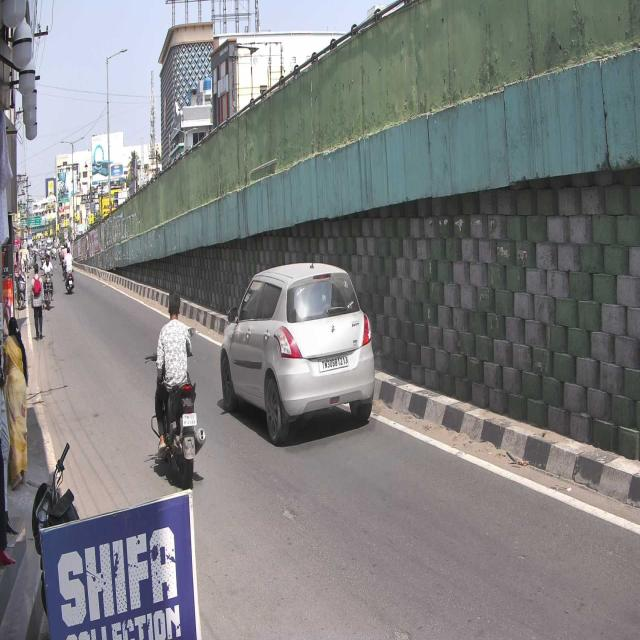single_rider: (146, 289, 205, 481)
